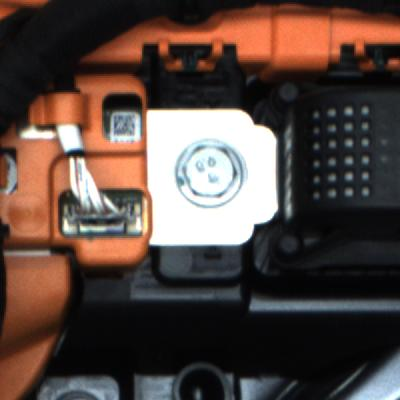nut_b: (169, 138, 248, 215)
